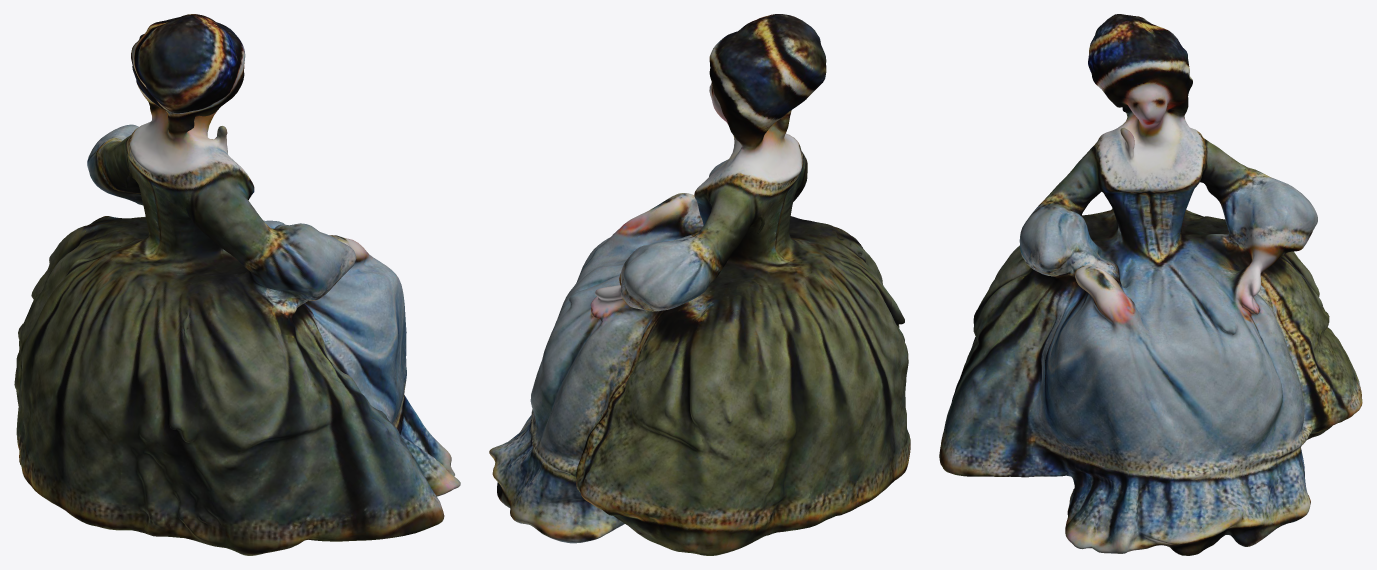
The model's file is 5ee7596cb073_noble_parisian_wome.fbx.
3 views of the same model, side by side, from view 1: azimuth 30°, elevation 25°; view 2: azimuth 150°, elevation 25°; view 3: azimuth 270°, elevation 25° (orthographic). The views are drawn at different scales.
Parts seen in each view (by area): view 1: high_poly; view 2: high_poly; view 3: high_poly.
Part boxes in pixels (x1,y1,x2,y2): high_poly: (14,14,460,555); high_poly: (489,14,910,555); high_poly: (939,14,1362,555).
Bounding box in the file's own units: 78.87 × 100 × 87.6.
